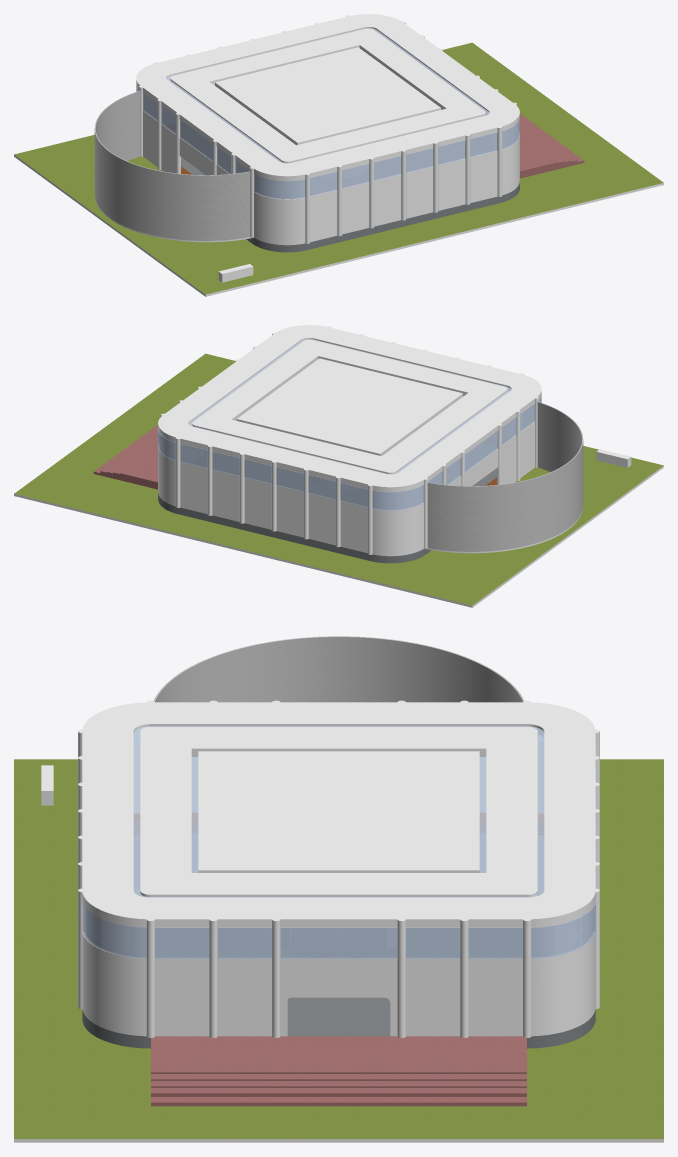
File: metaverse_untan.glb
3 renders of one model, top to bottom at view 1: azimuth 30°, elevation 25°; view 2: azimuth 150°, elevation 25°; view 3: azimuth 270°, elevation 25°, orthographic. The views are drawn at different scales.
Parts seen in each view (by area): view 1: Material2 (×6); view 2: Material2 (×6); view 3: Material2 (×6).
Part boxes in pixels (<box>): Material2 (×6): <box>14,14,663,296</box>; Material2 (×6): <box>14,325,663,607</box>; Material2 (×6): <box>14,636,663,1142</box>.
Size of the model in its own units: 85.28 by 13.93 by 61.72.
11 materials, 6 textured.
